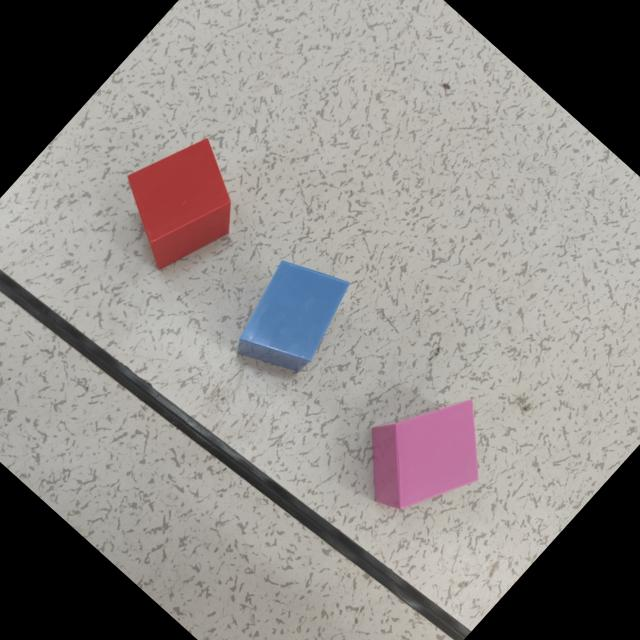blue: (235, 262, 349, 377)
pink: (367, 401, 478, 510)
red: (125, 139, 230, 270)
